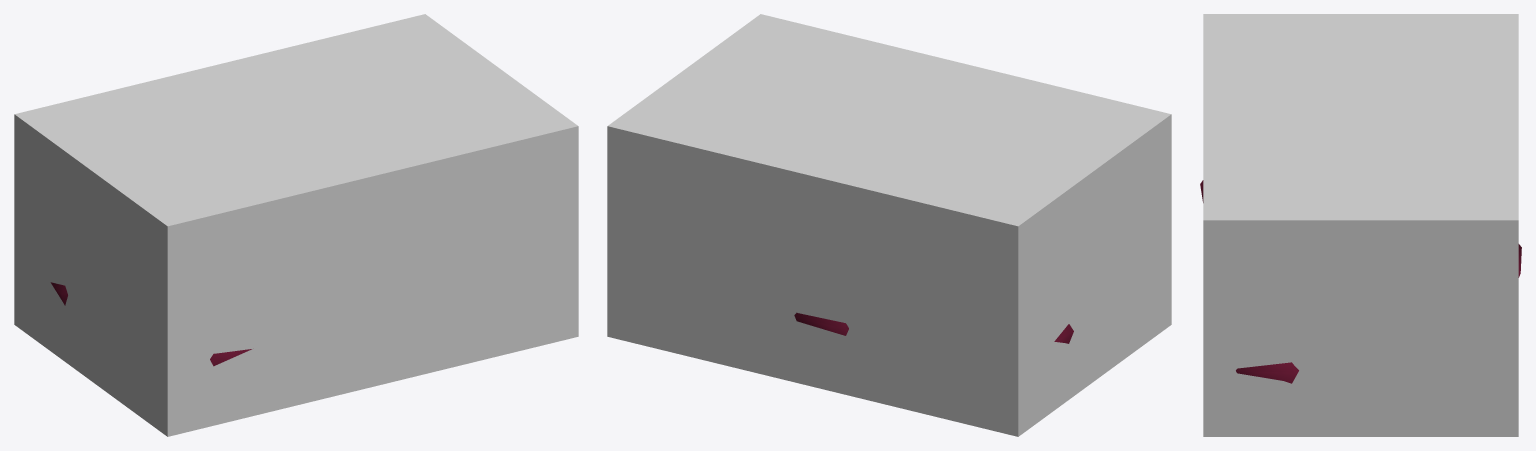
The model's file is FMS_Crate_Fill_Beet.fbx.
The picture shows the model from 3 angles, left to right: view 1: azimuth 30°, elevation 25°; view 2: azimuth 150°, elevation 25°; view 3: azimuth 270°, elevation 25°; orthographic projection. The views are drawn at different scales.
Visible parts, largest first — view 1: Crate_Fill_Beet_Col; view 2: Crate_Fill_Beet_Col, Crate_Fill_Beet_LOD0; view 3: Crate_Fill_Beet_Col, Crate_Fill_Beet_LOD0.
Part boxes in pixels (x1=…): Crate_Fill_Beet_Col: x1=14, y1=14, x2=578, y2=436; Crate_Fill_Beet_Col: x1=607, y1=14, x2=1171, y2=436; Crate_Fill_Beet_LOD0: x1=794, y1=312, x2=1073, y2=343; Crate_Fill_Beet_Col: x1=1203, y1=14, x2=1518, y2=436; Crate_Fill_Beet_LOD0: x1=1200, y1=180, x2=1521, y2=383.
Size of what is drawn, in the model's own units: 40.16 by 19.28 by 25.94.
